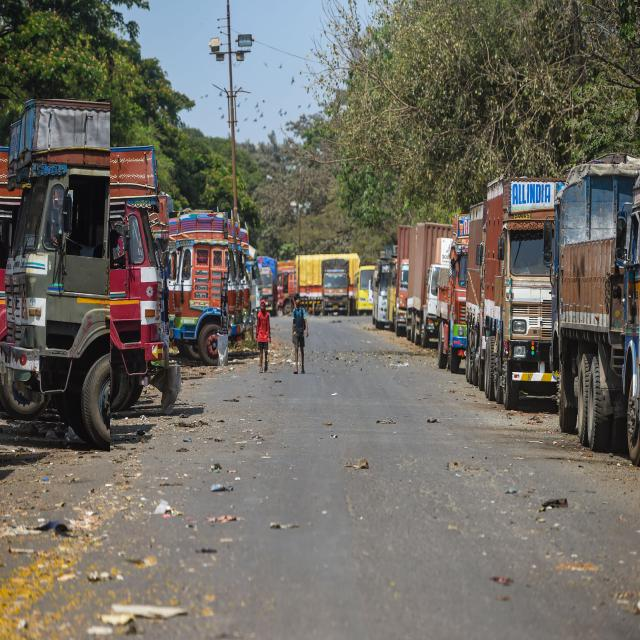truck: (0, 99, 110, 452), (90, 146, 165, 411), (484, 177, 560, 408), (170, 212, 228, 366)
